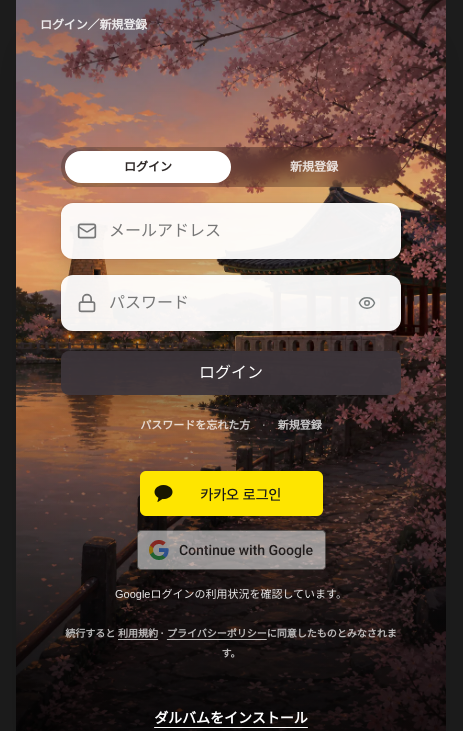
signup consent form › renders unchecked required consent controls and policy links in ja
Click the 1st button "新規登録": {"x": 314, "y": 167} [231, 151, 397, 183]
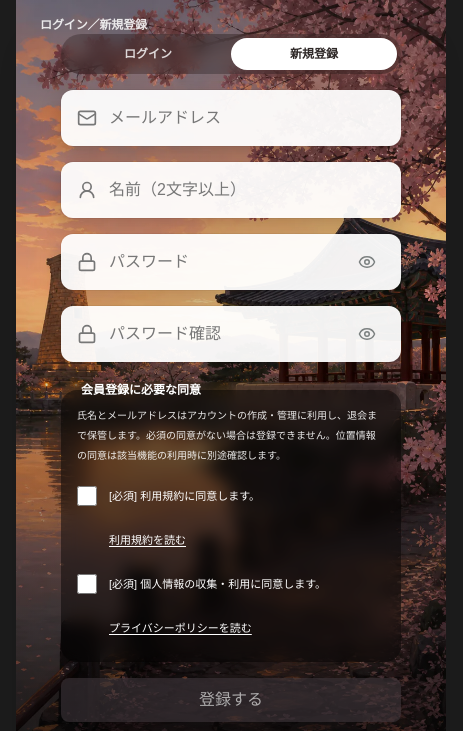
Check: the checkbox labelled "[必須] 利用規約に同意します。" is not checked, box [77, 486, 97, 506]
Check: the checkbox labelled "[必須] 個人情報の収集・利用に同意します。" is not checked, box [77, 574, 97, 594]
